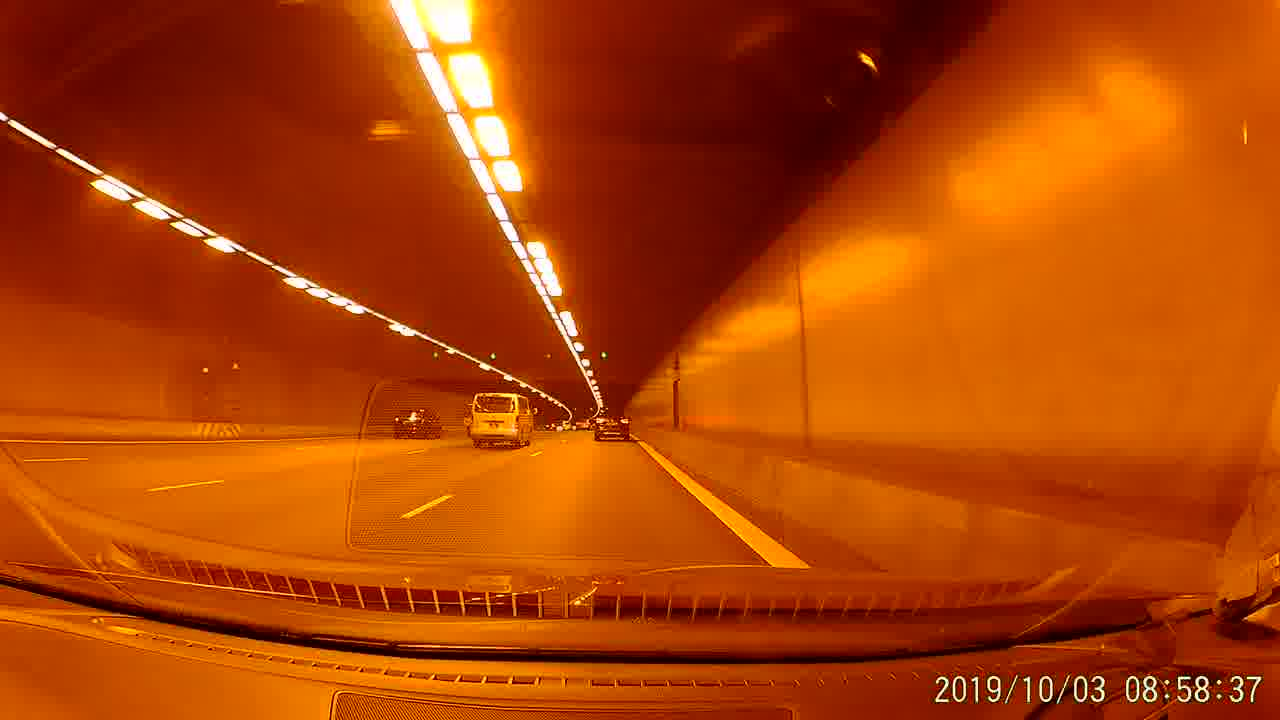car: (391, 406, 445, 439), (592, 406, 633, 445)
